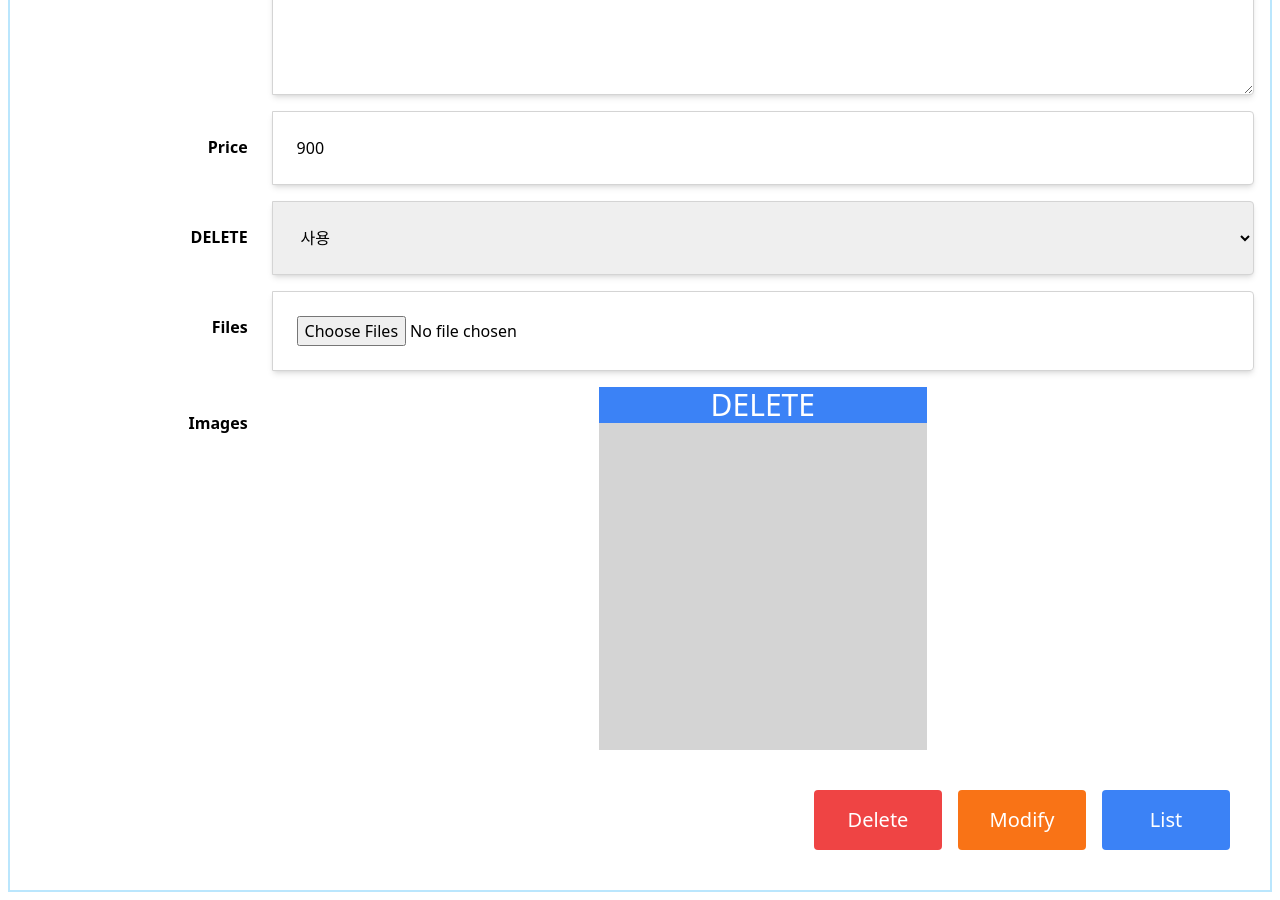
Test case: retains selected images and includes newly selected files on modify
The width and height of the screenshot is (1280, 900).
Earlier steps of the test are not shown.
(page scrolled)
Click the button "Modify": (1022, 820) [958,790,1086,850]
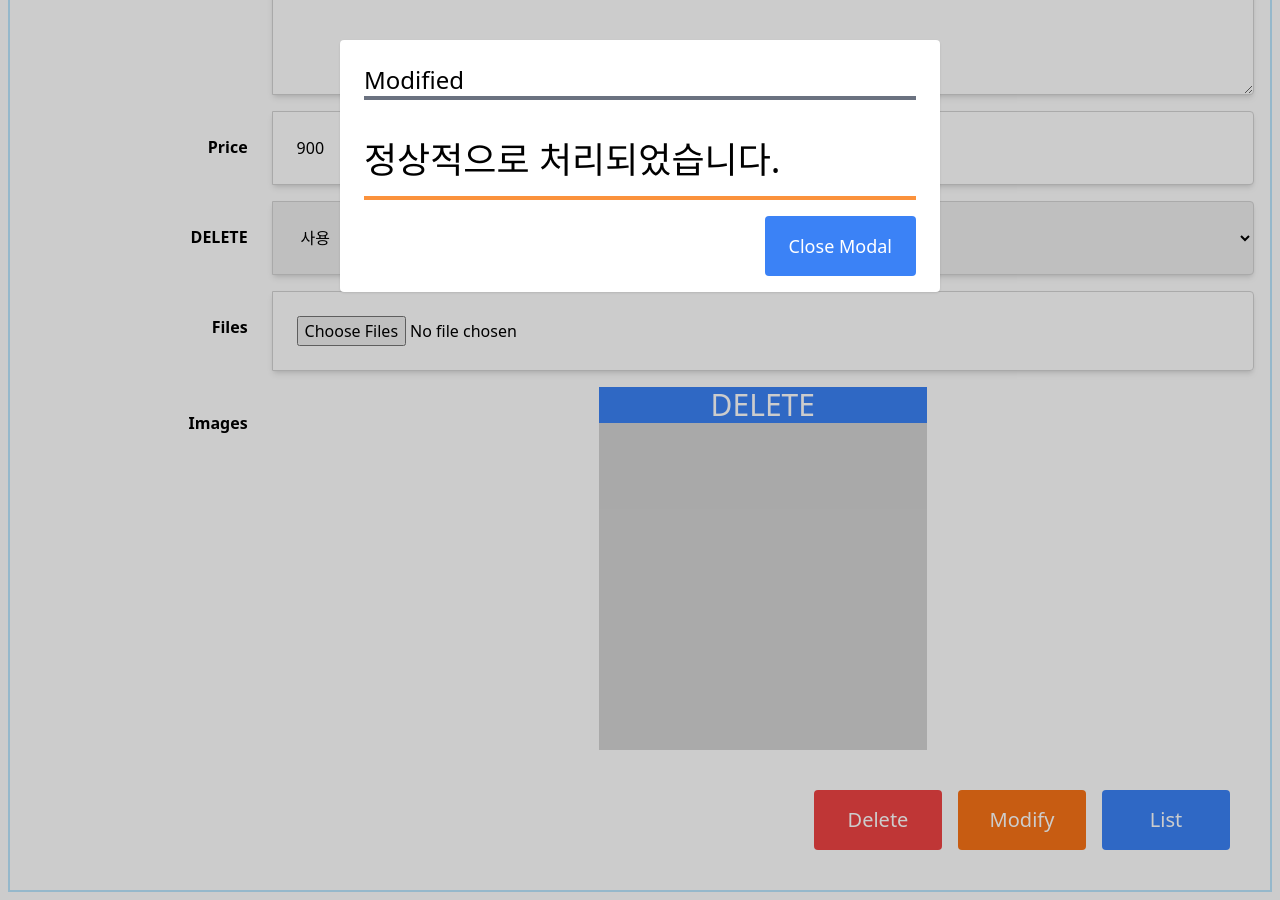
Result: the dialog "Modified" is shown at [340,40,940,292]
